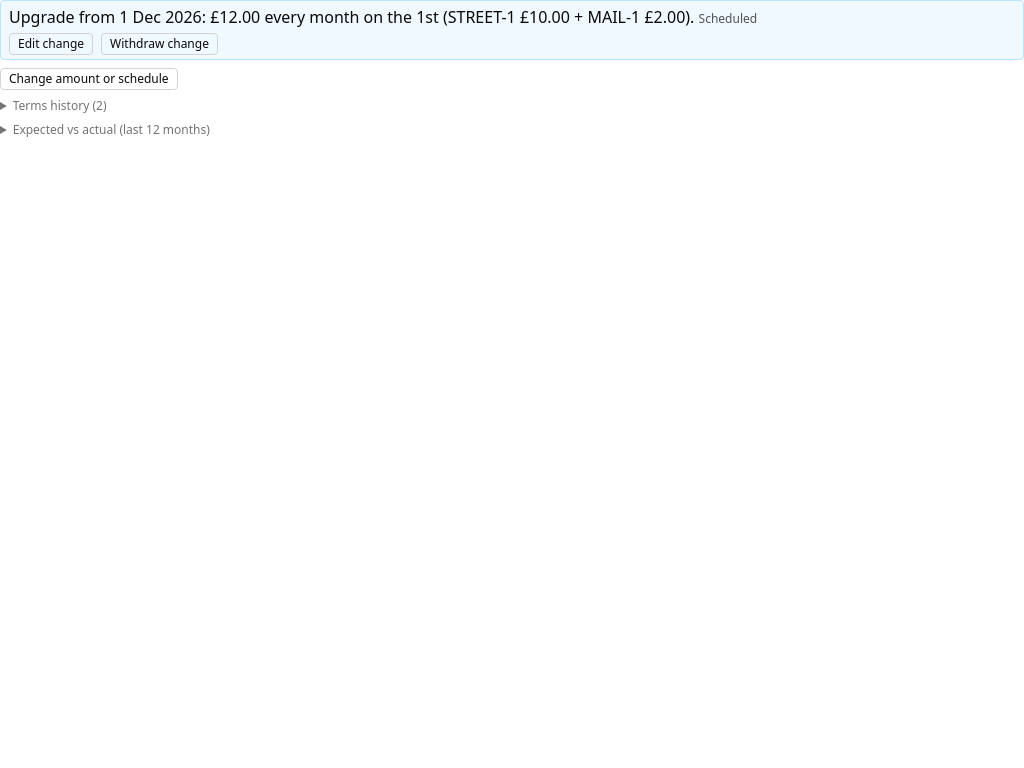
our own withdraw landing never flashes "someone has withdrawn it" (B-L4)
The width and height of the screenshot is (1024, 768).
Click the button "Withdraw change".
click(160, 44)  # box left=101, top=33, right=218, bottom=55
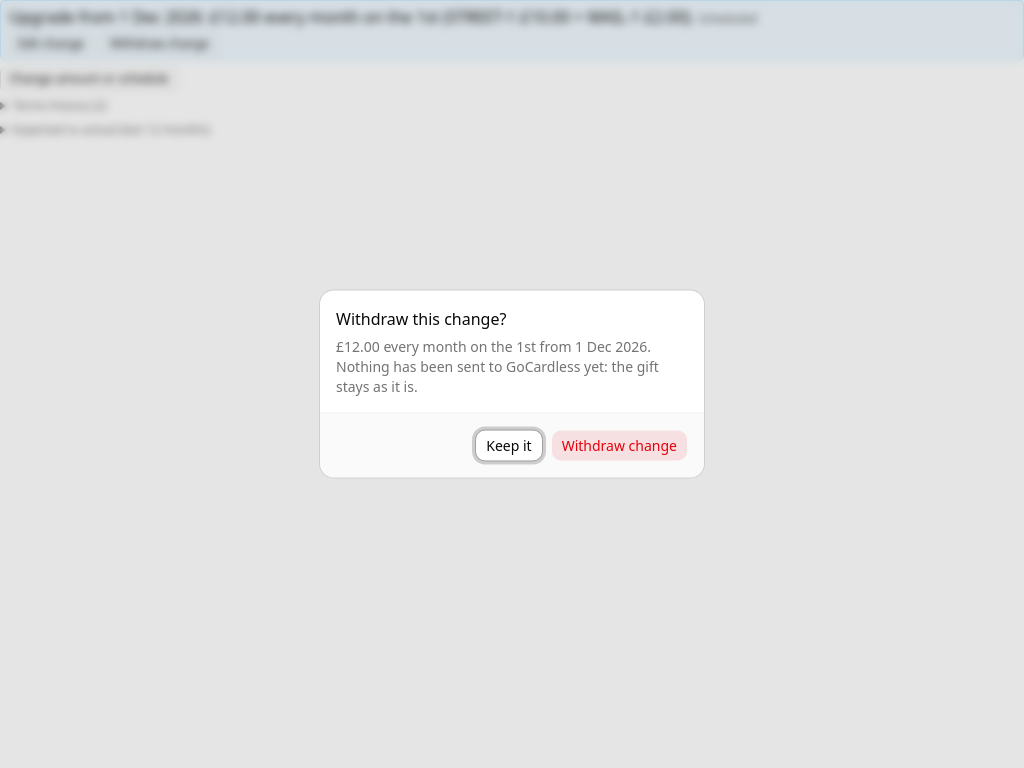
Click the button "Withdraw change".
click(619, 446)  # box left=551, top=430, right=688, bottom=462
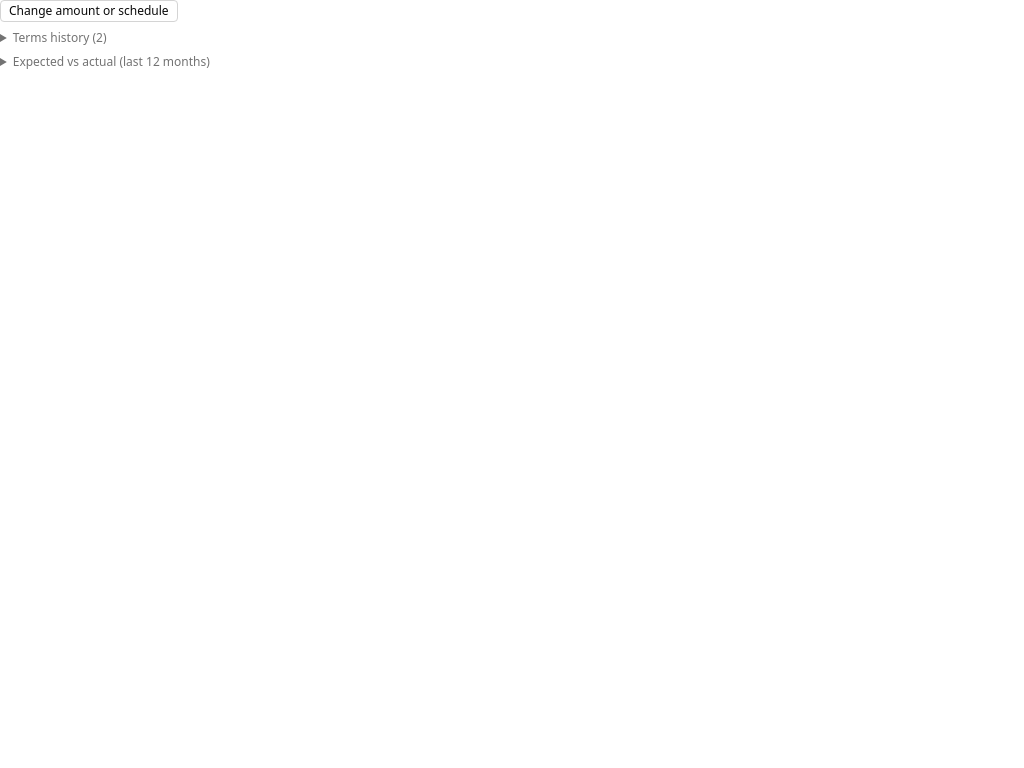
Expected: the dialog is gone
